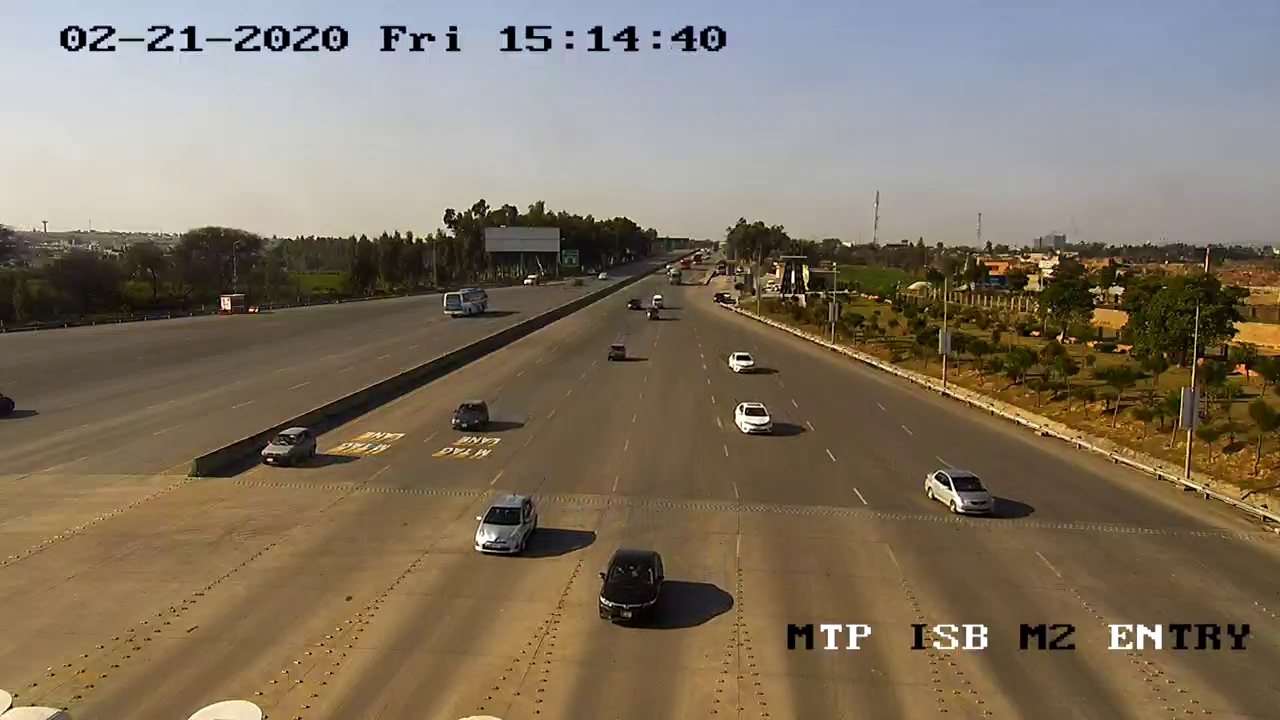f1: (590, 537, 679, 637), (469, 487, 544, 567), (917, 461, 1011, 524), (728, 392, 786, 443), (446, 390, 499, 443)
